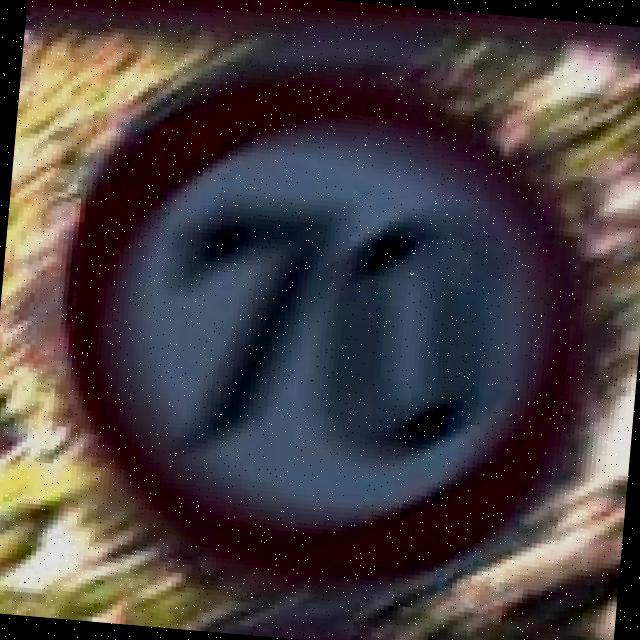Ograniczenie predkosci do 70: (30, 34, 610, 612)
